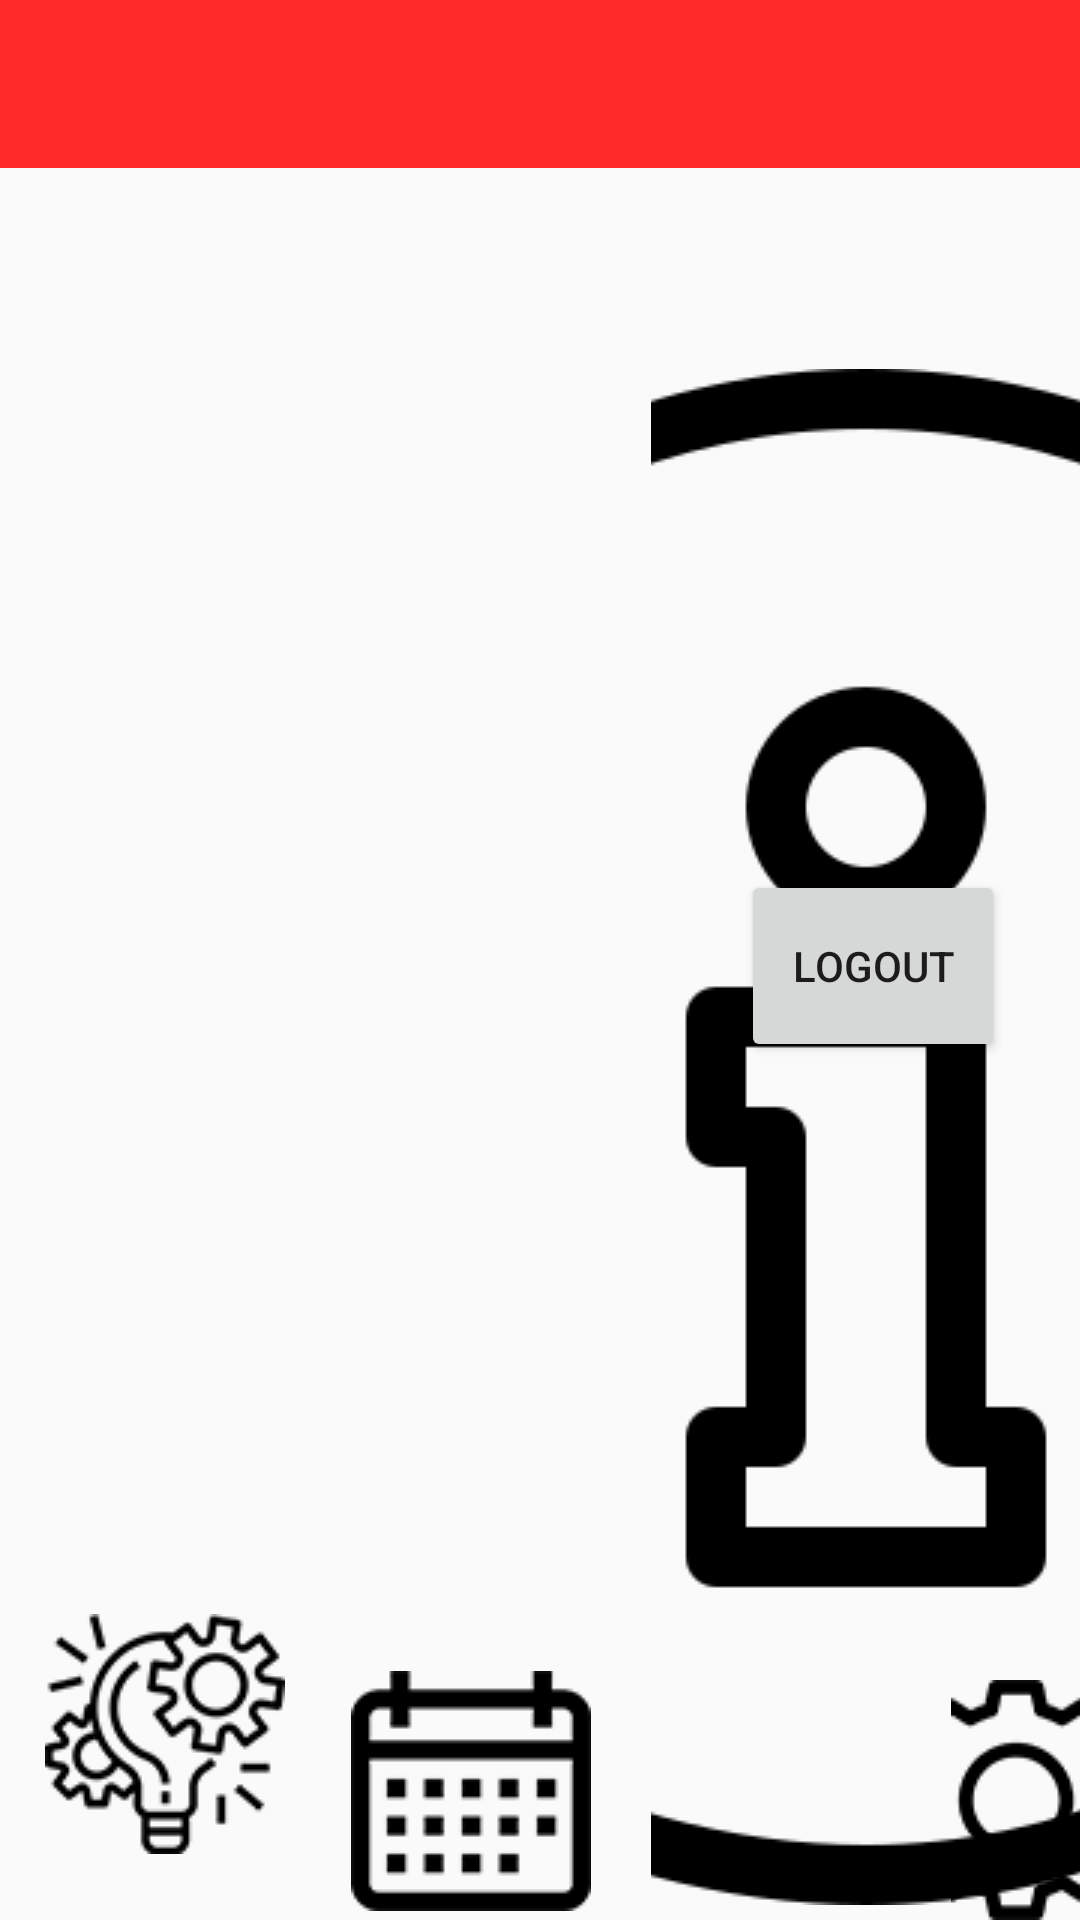

Named icons in this screenshot (1080px×1920px) and their centers, point (x, y):
eventsbtn: point (471, 1791)
projectbtn: point (165, 1734)
